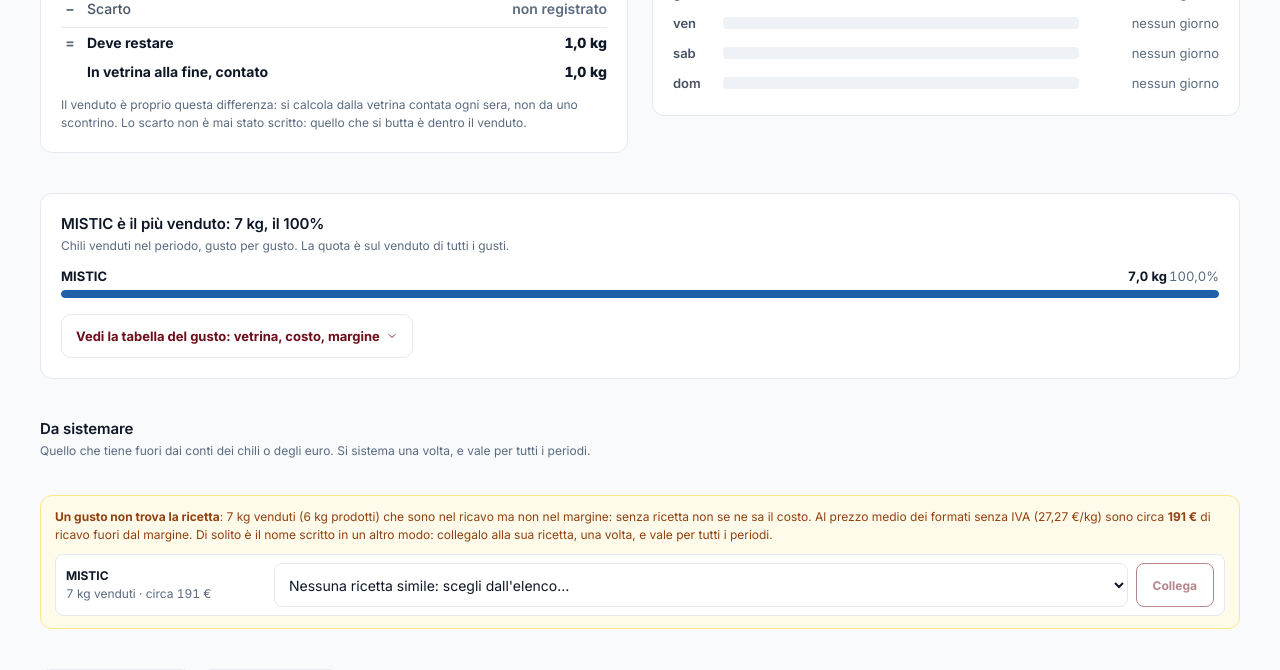
Test case: Le piccole cose della pagina › niente emoji: il triangolo è un'icona, con la spiegazione
(page scrolled)
Click the button "Vedi la tabella del gusto: vetrina, costo, margine".
click(237, 336)  # box [61,314,413,358]
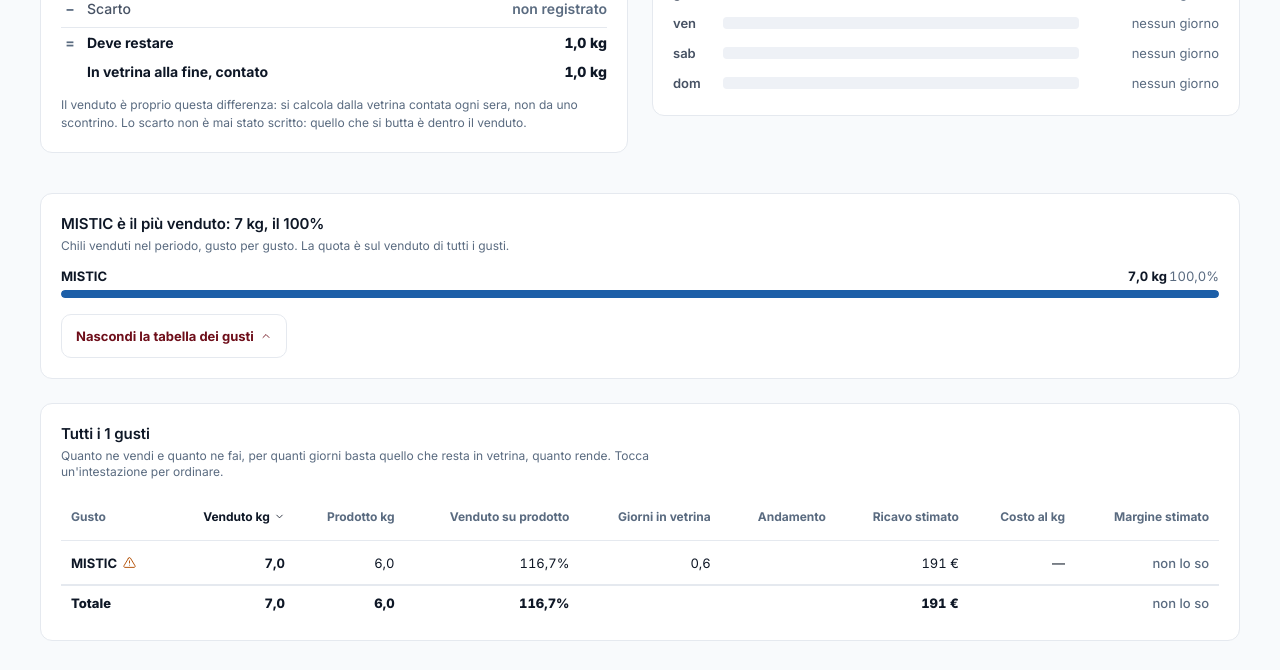
Expected: the element titled "Nessuna ricetta collegata a questo nome" is shown, [123,556,136,569]
